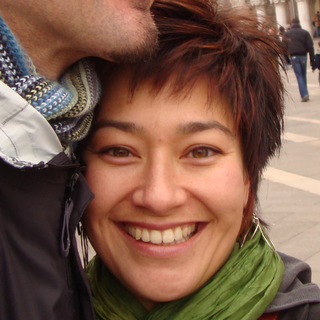eye: (174, 141, 227, 164), (96, 142, 143, 164)
